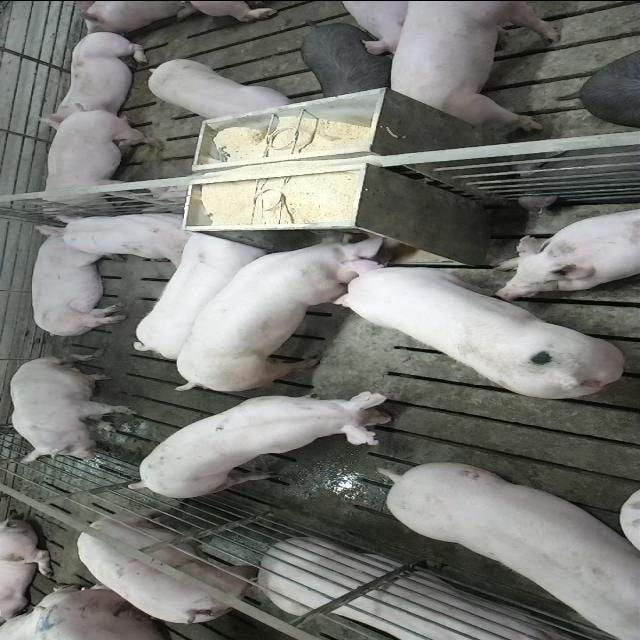Feeding: (331, 256, 626, 399), (173, 224, 397, 389)
Lateral_lying: (29, 221, 129, 338)
Sitting: (7, 354, 138, 463)
Standing: (383, 463, 640, 640), (130, 394, 404, 502), (384, 1, 566, 130), (76, 510, 264, 630), (128, 228, 266, 359), (30, 106, 167, 218), (142, 55, 294, 123), (298, 19, 399, 99)
Sternal_lying: (260, 540, 607, 640), (493, 203, 640, 294), (36, 27, 156, 122), (48, 206, 196, 262)
